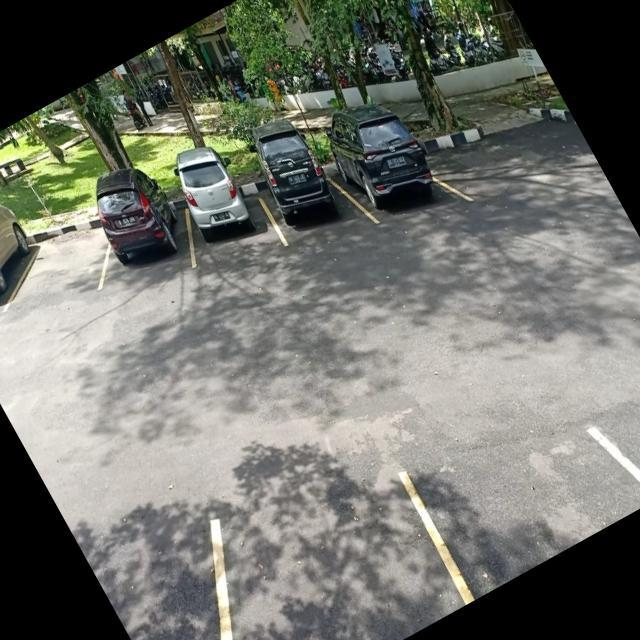empty: (9, 208, 126, 322)
occupied: (87, 175, 208, 302), (328, 111, 451, 235), (246, 133, 366, 260), (170, 158, 278, 264), (0, 183, 53, 337)
